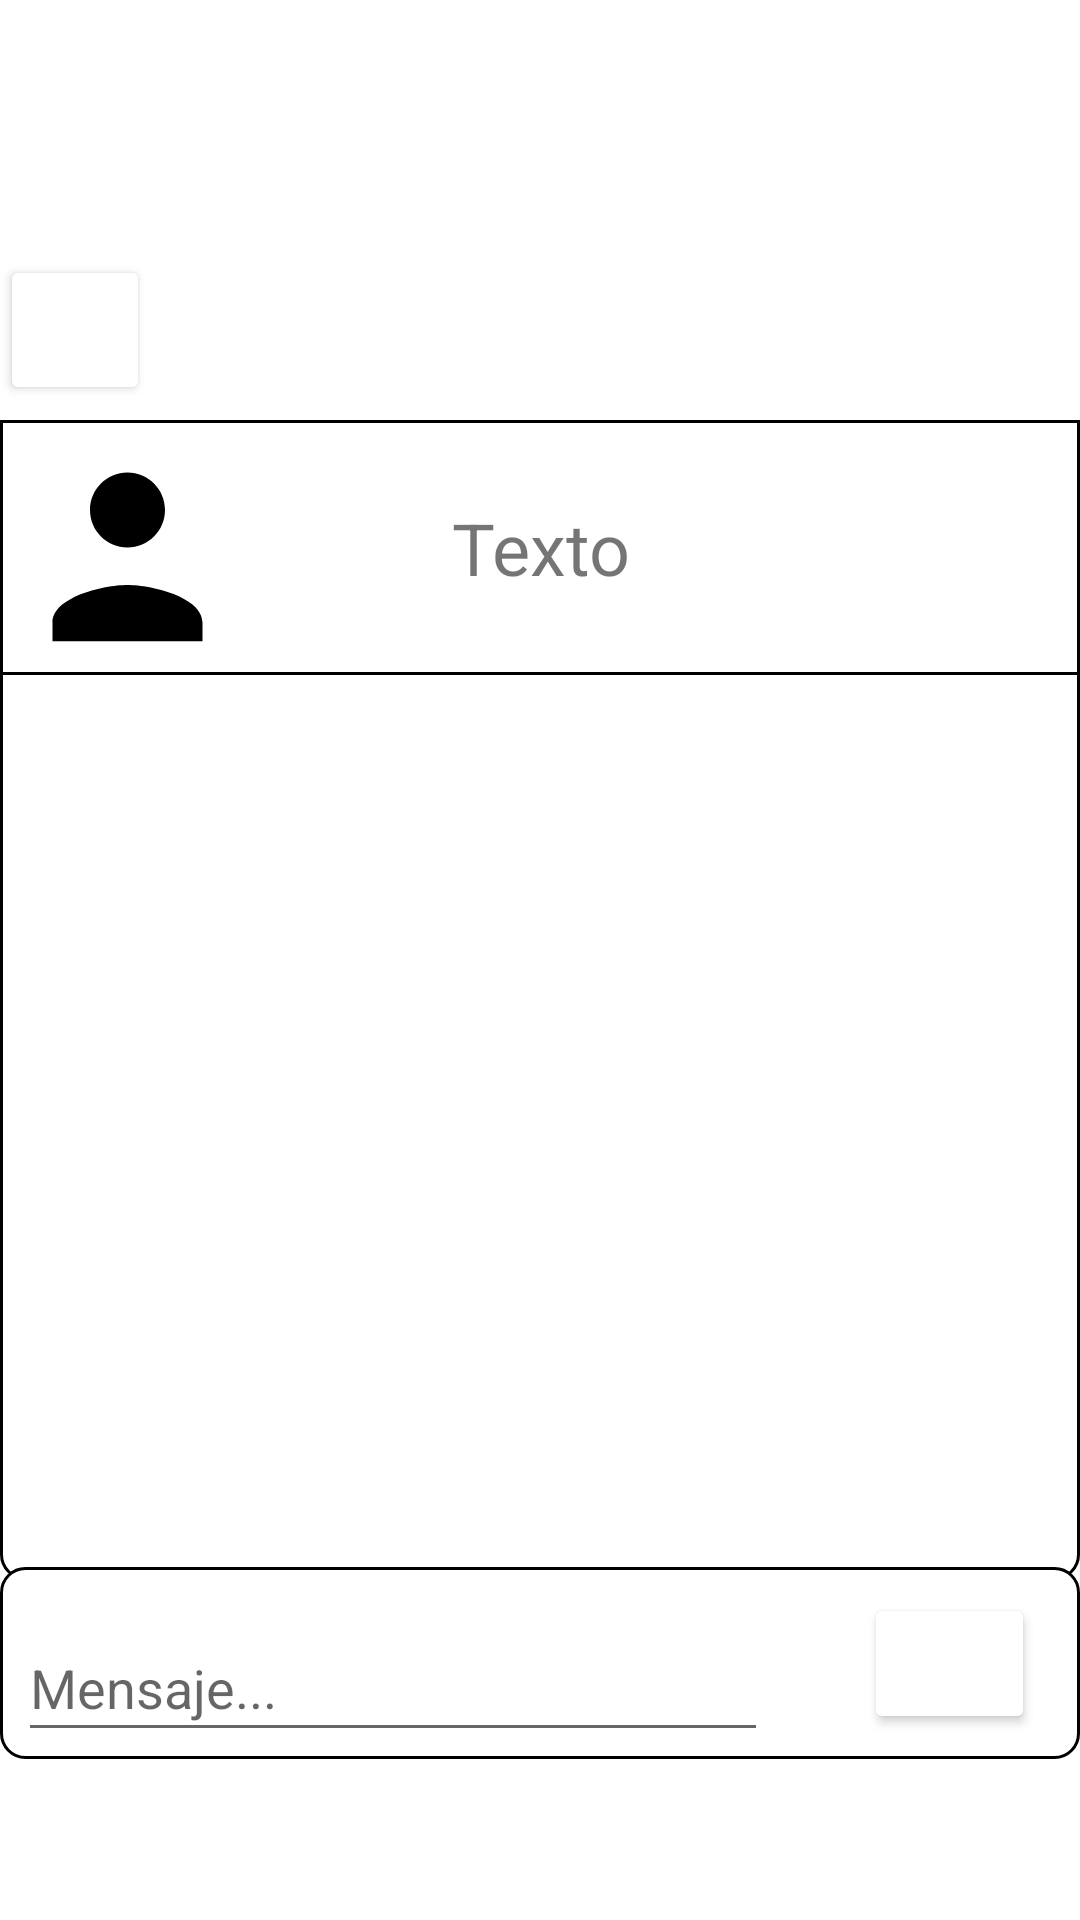

Where icons sit on this 1080px×1920px app screen, as (left=x1, top=y1, right=x2, bottom=y2):
profile: (left=52, top=472, right=203, bottom=642)
